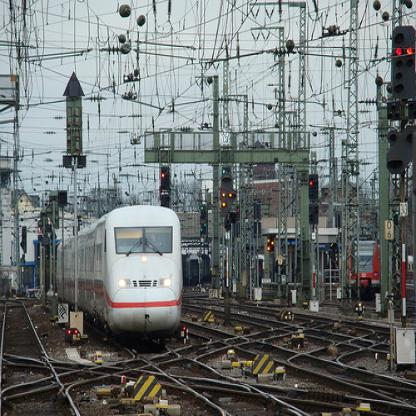train: (56, 204, 183, 335), (348, 239, 381, 289)
